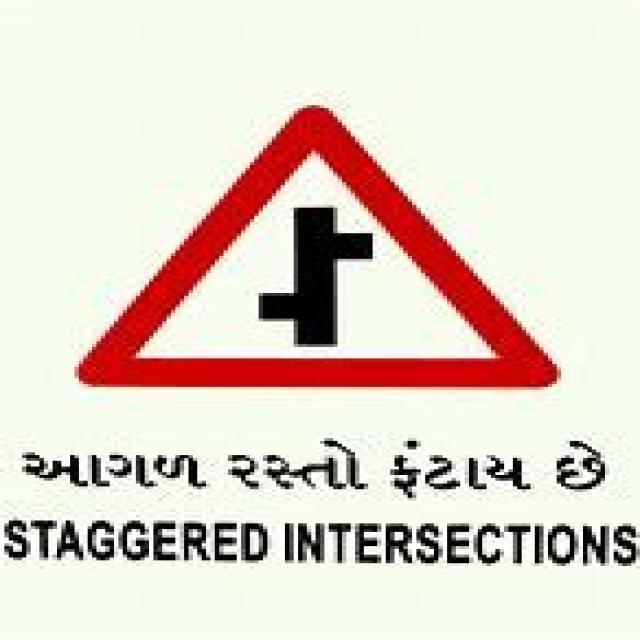staggered intersection: (69, 102, 560, 386)
